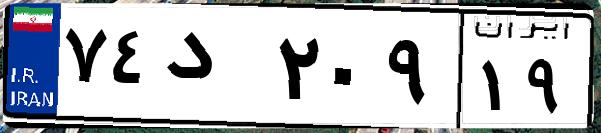0: (330, 28, 385, 110)
1: (475, 38, 525, 113)
2: (270, 28, 330, 110)
4: (110, 28, 158, 98)
7: (57, 26, 110, 100)
9: (385, 28, 445, 110), (525, 38, 570, 115)
د: (158, 20, 270, 120)
